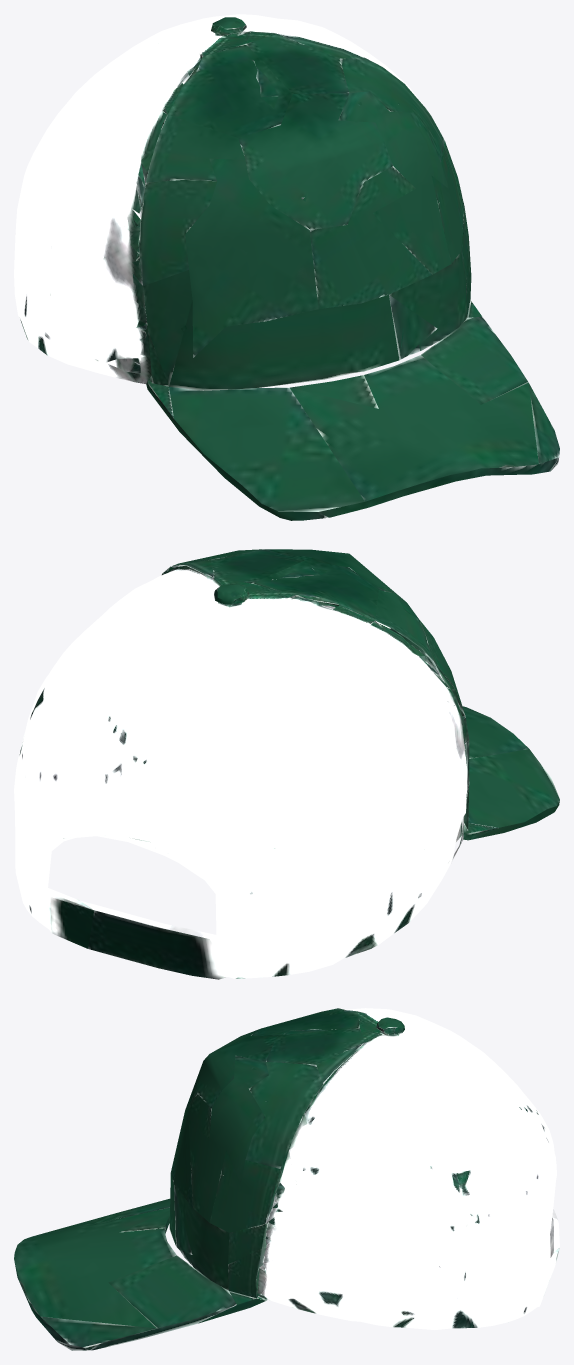
The model's file is acc_trucker.glb.
The picture shows the model from 3 angles, top to bottom: view 1: azimuth 30°, elevation 25°; view 2: azimuth 150°, elevation 25°; view 3: azimuth 270°, elevation 25°; orthographic projection. The views are drawn at different scales.
Bounding box in the file's own units: 1.23 × 1.06 × 1.9.
1 material, 1 textured.
